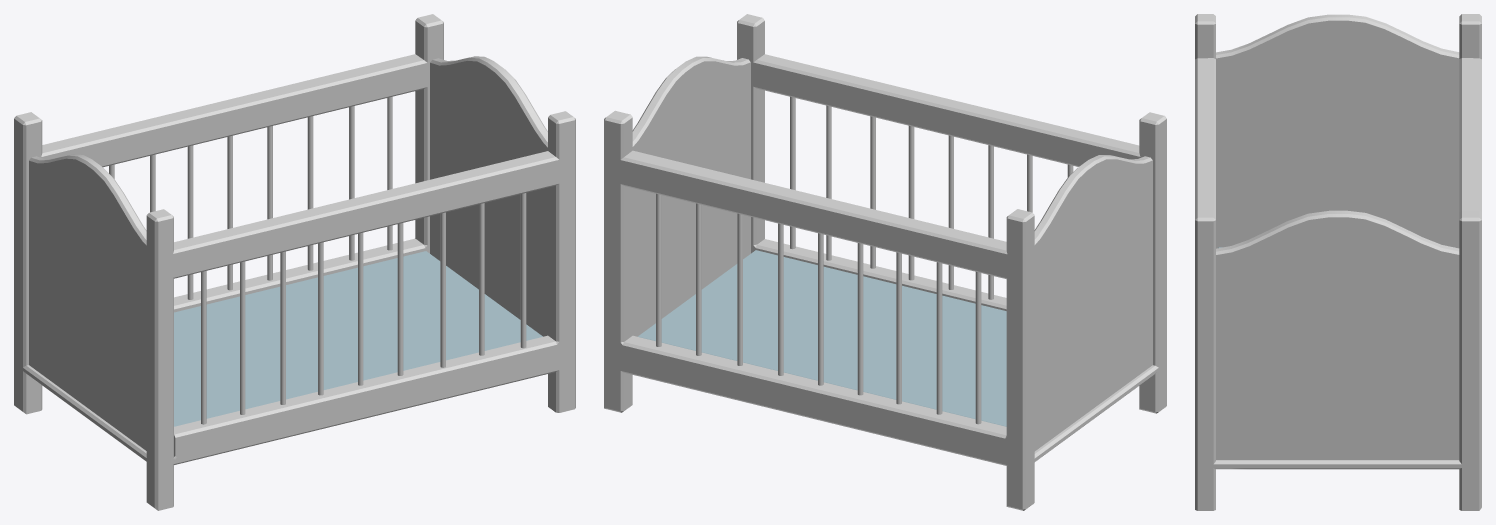
The model's file is Crib.fbx.
The picture shows the model from 3 angles, left to right: view 1: azimuth 30°, elevation 25°; view 2: azimuth 150°, elevation 25°; view 3: azimuth 270°, elevation 25°; orthographic projection.
Visible parts, largest first — view 1: Crib, Crib_Mattress; view 2: Crib, Crib_Mattress; view 3: Crib.
Boxes of the visible parts, bbox=[...] form: Crib: bbox=[14, 14, 575, 510]; Crib_Mattress: bbox=[174, 251, 542, 426]; Crib: bbox=[604, 14, 1166, 510]; Crib_Mattress: bbox=[638, 250, 1006, 426]; Crib: bbox=[1195, 14, 1481, 510].
Size of the model in its own units: 53.21 by 35.4 by 31.33.
